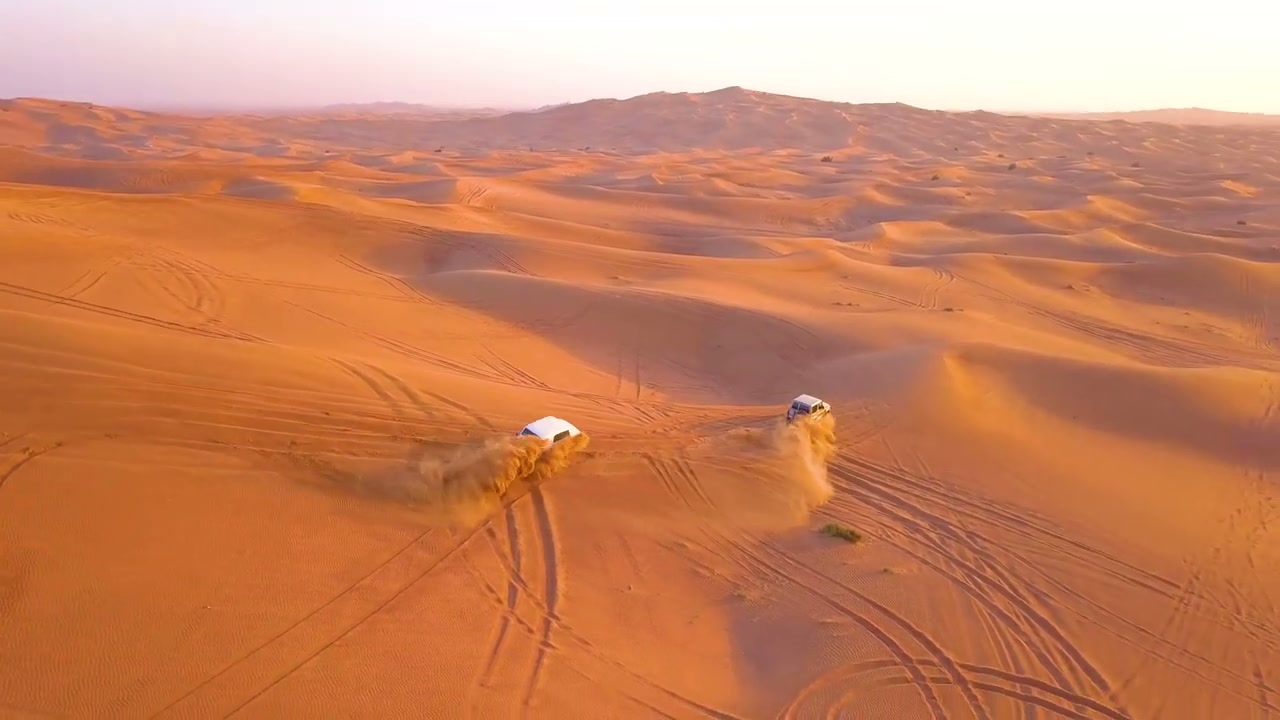vehicle_track: (831, 456, 1277, 711), (152, 494, 522, 717), (837, 455, 1208, 661), (828, 458, 1118, 705), (736, 538, 1130, 719), (223, 491, 531, 716), (151, 527, 434, 717), (685, 528, 947, 719), (471, 538, 739, 719), (730, 540, 990, 719), (961, 277, 1279, 370), (279, 298, 515, 384), (66, 397, 451, 448), (555, 620, 734, 719), (84, 377, 400, 430), (0, 281, 261, 341), (134, 245, 264, 341), (330, 358, 496, 430), (478, 506, 535, 686), (957, 662, 1130, 719), (523, 484, 559, 706), (219, 272, 421, 302), (147, 246, 224, 322), (414, 228, 535, 276), (336, 254, 440, 305), (640, 452, 715, 510), (330, 358, 403, 416), (364, 363, 439, 417), (56, 251, 136, 298), (475, 346, 552, 389), (0, 440, 63, 490), (1241, 272, 1279, 353), (451, 239, 534, 276), (641, 452, 693, 509), (668, 454, 717, 510), (839, 283, 918, 307), (7, 210, 87, 231), (917, 268, 954, 309), (631, 346, 643, 400), (0, 431, 28, 450)
